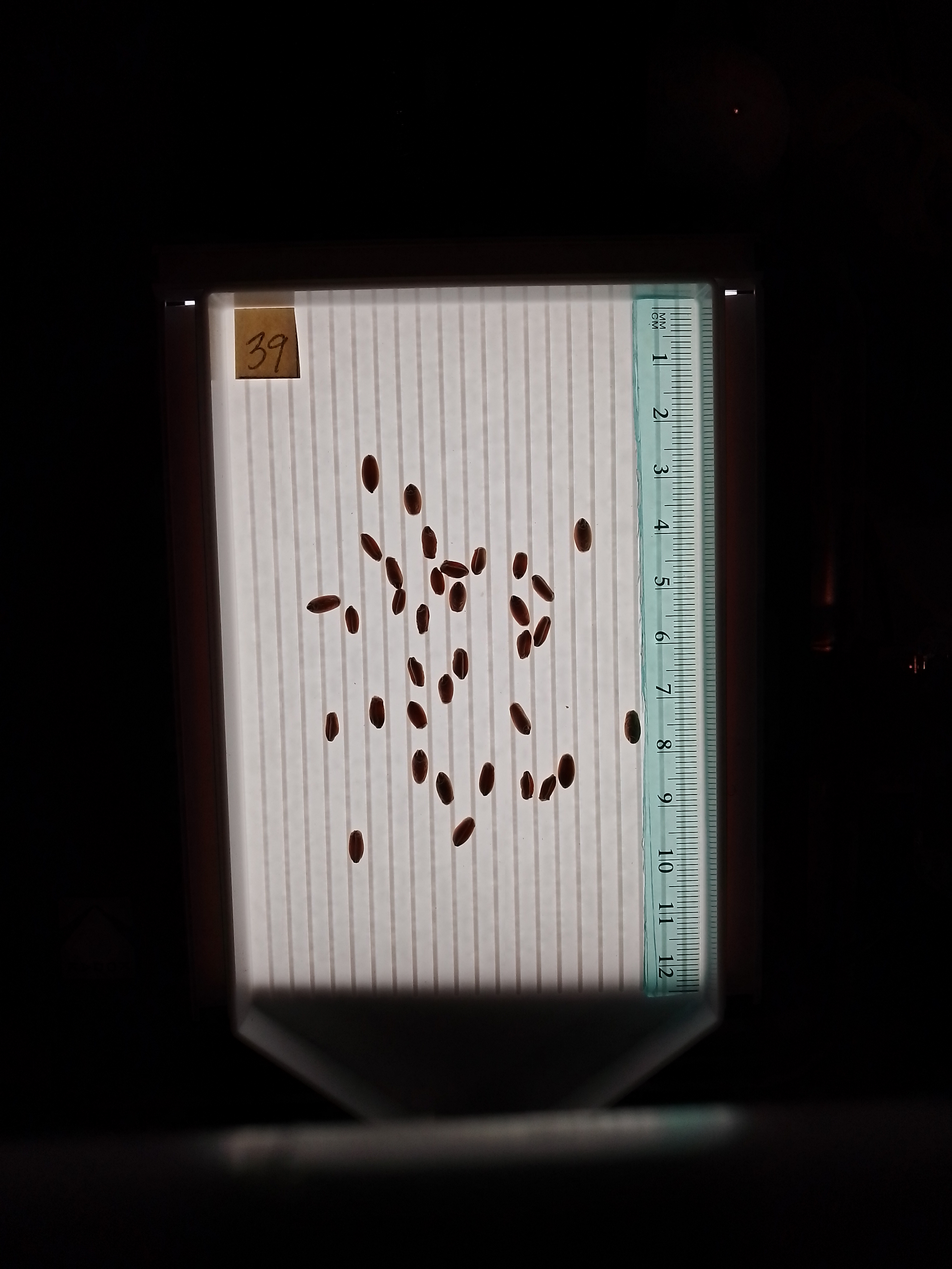seed mask: (361, 456, 380, 493), (573, 518, 592, 553), (510, 704, 531, 735), (453, 817, 475, 846), (307, 596, 340, 614), (624, 710, 641, 744), (532, 575, 554, 601), (510, 596, 529, 626), (361, 534, 382, 561), (558, 755, 575, 788), (407, 702, 427, 729), (412, 751, 428, 784), (422, 526, 438, 559), (449, 582, 466, 613), (479, 763, 495, 795), (436, 774, 453, 804), (404, 485, 421, 515), (386, 557, 402, 588), (534, 616, 550, 647), (369, 697, 385, 728), (349, 831, 364, 863), (408, 658, 424, 687), (539, 775, 556, 801), (453, 649, 468, 678), (441, 560, 466, 577), (325, 713, 340, 741), (517, 632, 532, 659), (471, 547, 486, 574), (439, 675, 453, 703), (520, 772, 534, 800), (345, 607, 359, 634), (417, 605, 430, 634), (431, 569, 445, 595), (512, 553, 527, 577), (392, 589, 406, 614)
